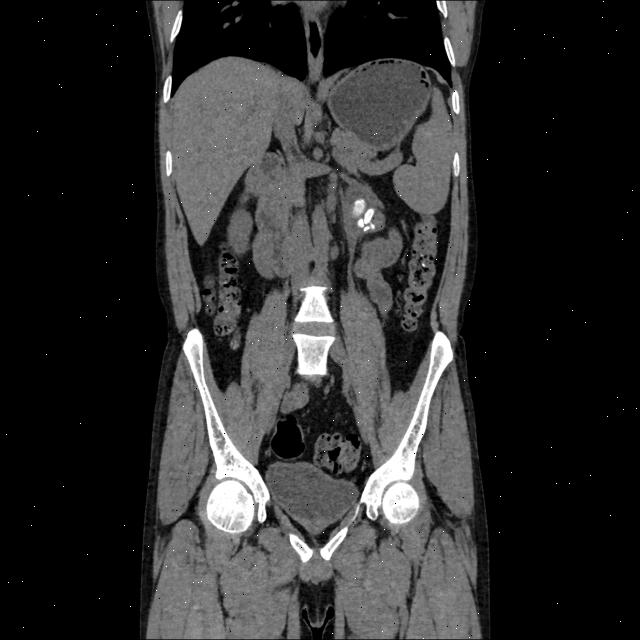kidneystone: (358, 218, 375, 232), (365, 208, 374, 222)
